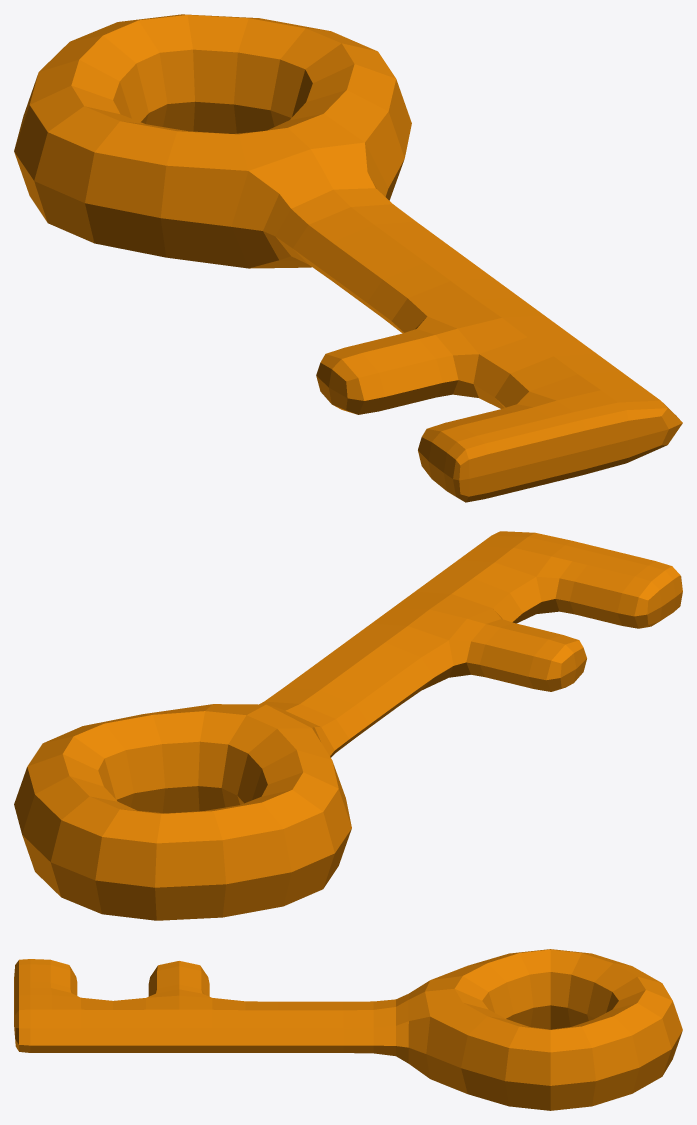
File: key.fbx
3 renders of one model, top to bottom at view 1: azimuth 30°, elevation 25°; view 2: azimuth 150°, elevation 25°; view 3: azimuth 270°, elevation 25°, orthographic. The views are drawn at different scales.
Visible parts, largest first — view 1: Cube; view 2: Cube; view 3: Cube.
Part boxes in pixels (left/top/right/bottom): Cube: left=14, top=14, right=682, bottom=502; Cube: left=14, top=531, right=682, bottom=920; Cube: left=14, top=949, right=682, bottom=1110.
Bounding box in the file's own units: 190 × 65.07 × 479.
